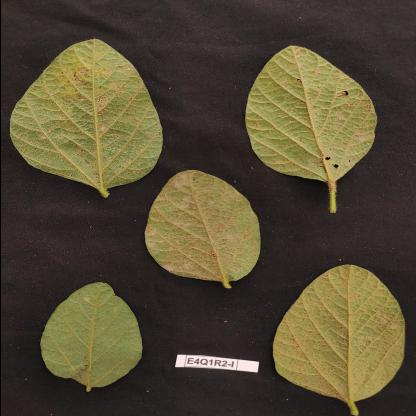label: (165, 348, 258, 382)
leaflets: (7, 30, 164, 204), (268, 259, 410, 415), (242, 37, 383, 189), (140, 170, 260, 300), (35, 278, 145, 400)
